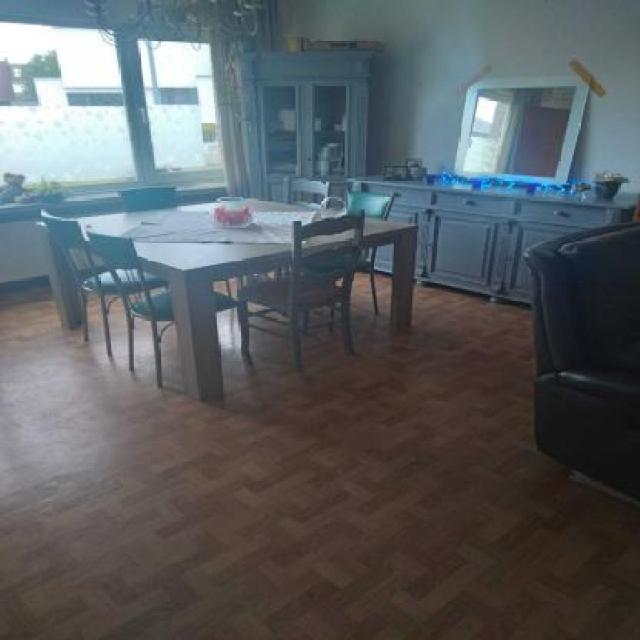Floor: (0, 270, 640, 640), (248, 316, 290, 337), (308, 311, 330, 327), (263, 311, 289, 323), (156, 321, 174, 338), (247, 301, 271, 313), (104, 295, 120, 310), (213, 280, 228, 296), (228, 278, 238, 300), (314, 306, 331, 317), (150, 286, 165, 294), (128, 294, 136, 304), (333, 310, 340, 320), (336, 278, 343, 287), (268, 272, 274, 280), (139, 292, 145, 298), (135, 293, 140, 300), (335, 302, 340, 309), (130, 313, 133, 319), (298, 320, 300, 329), (289, 268, 291, 272), (301, 273, 304, 275), (282, 270, 283, 274), (169, 286, 170, 289), (84, 292, 85, 295), (298, 313, 301, 314), (282, 276, 284, 277), (248, 314, 250, 314)
